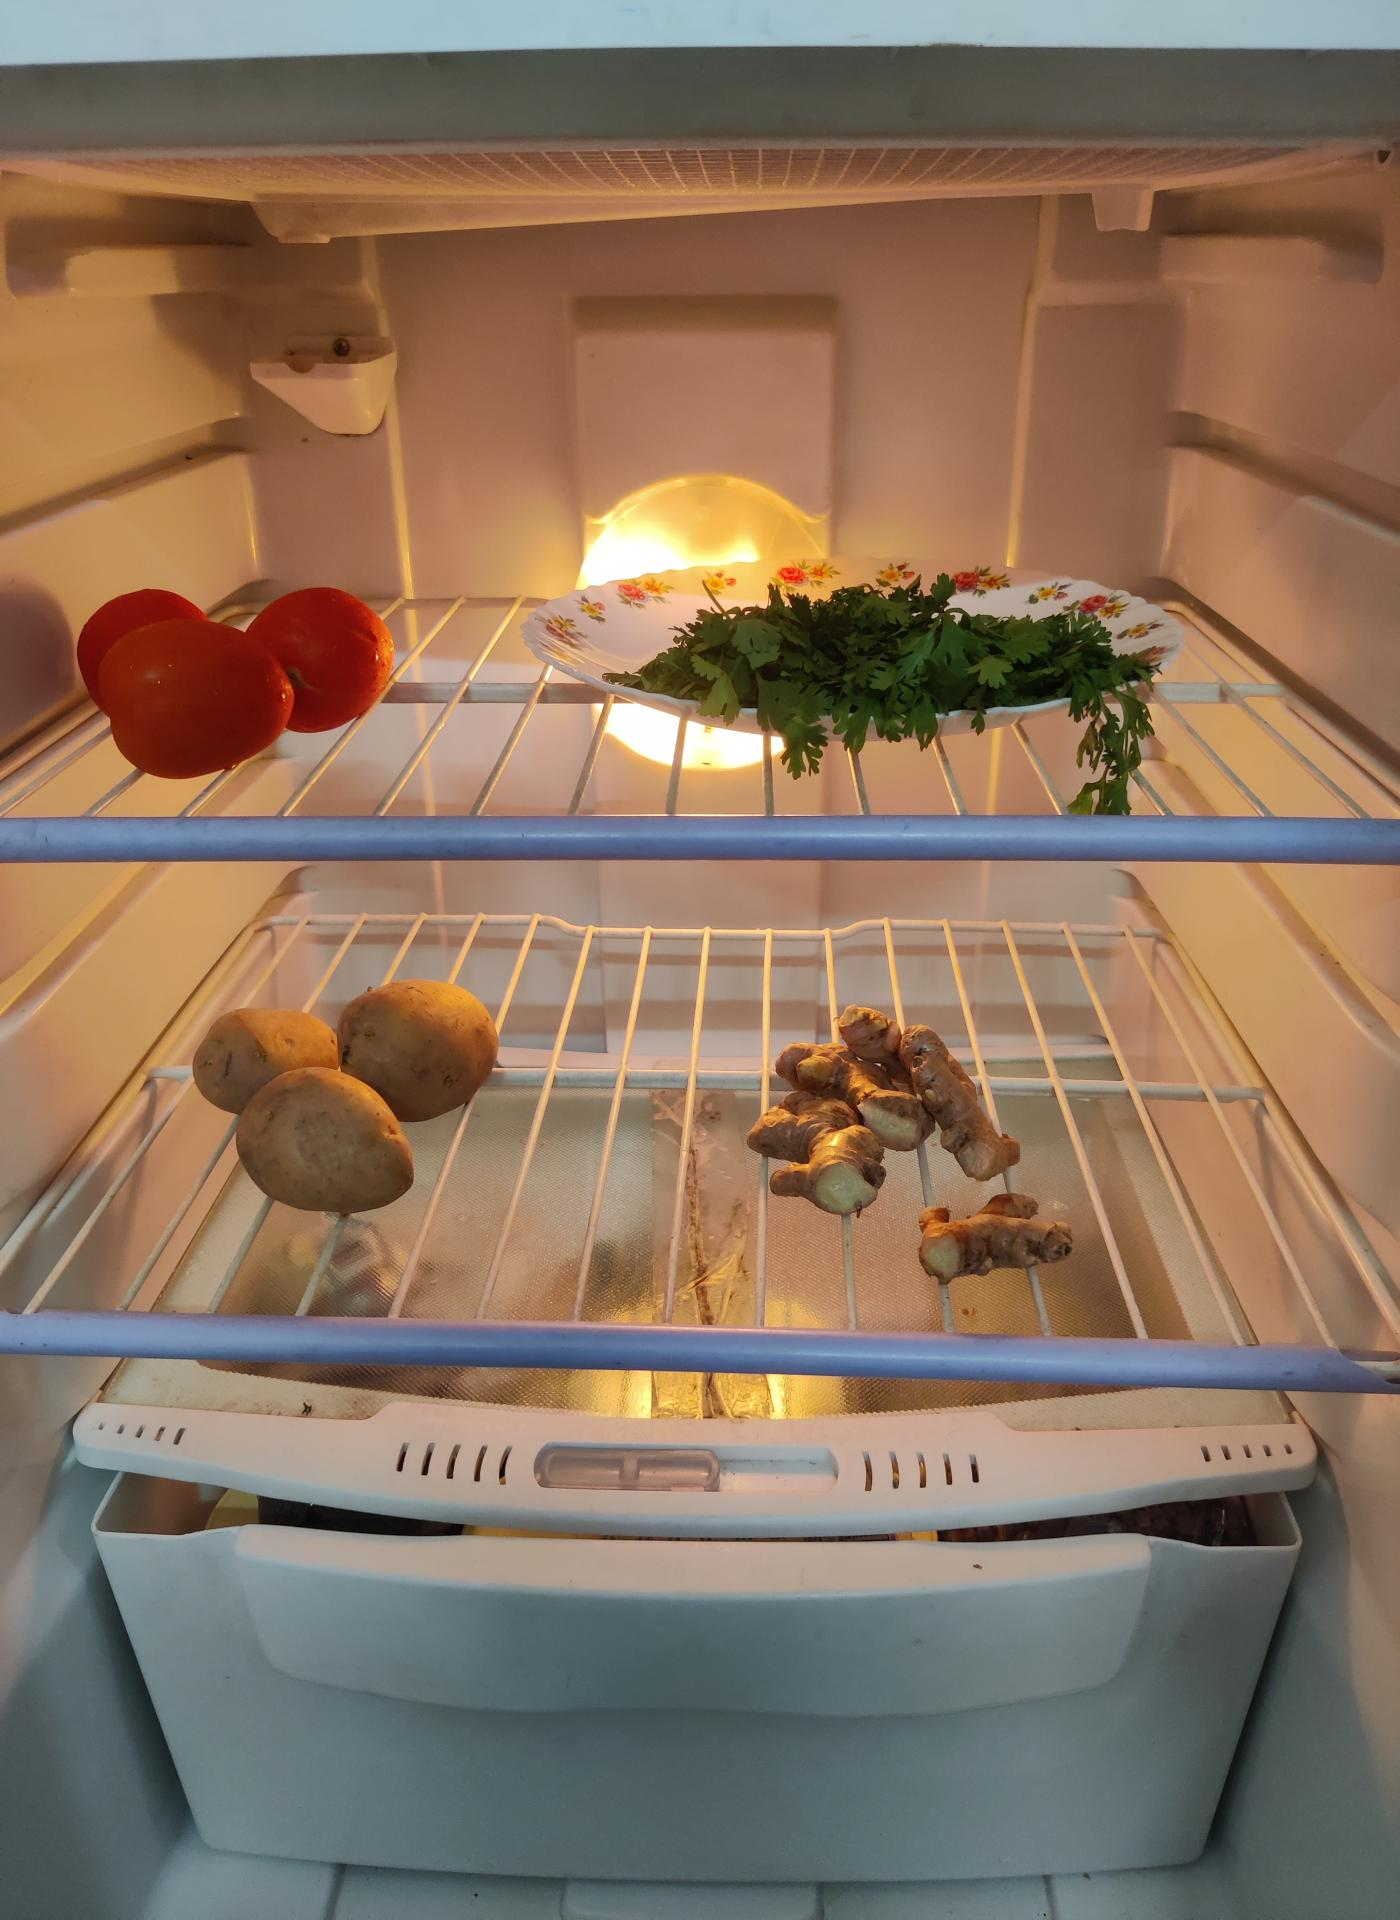coriander: (637, 572, 1166, 732)
ginger: (763, 1023, 1029, 1185), (926, 1194, 1073, 1276)
potato: (197, 972, 501, 1213)
tomato: (83, 578, 400, 771)
